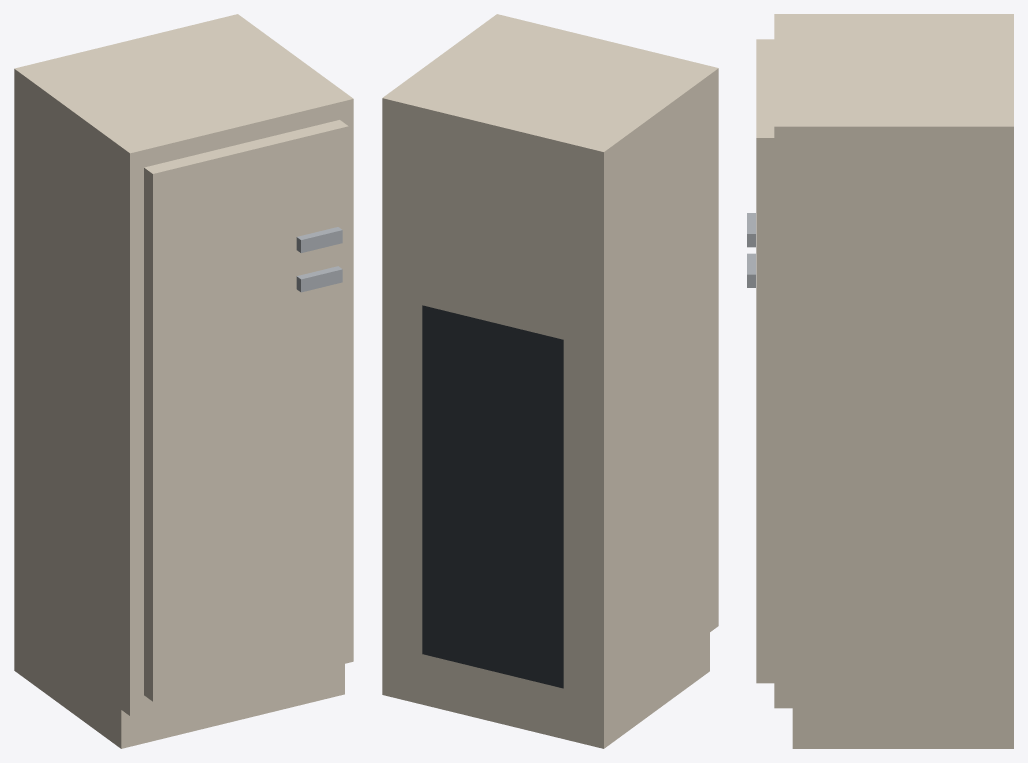
File: fridge.glb
3 views of the same model, side by side, from view 1: azimuth 30°, elevation 25°; view 2: azimuth 150°, elevation 25°; view 3: azimuth 270°, elevation 25° (orthographic). The views are drawn at different scales.
Visible parts, largest first — view 1: fridge (×2); view 2: fridge; view 3: fridge (×2).
Boxes of the visible parts, left/top/right/bottom form: fridge (×2): left=14, top=14, right=353, bottom=748; fridge: left=382, top=14, right=718, bottom=748; fridge (×2): left=747, top=14, right=1013, bottom=748.
Bounding box in the file's own units: 0.6999 × 1.8 × 0.7.
